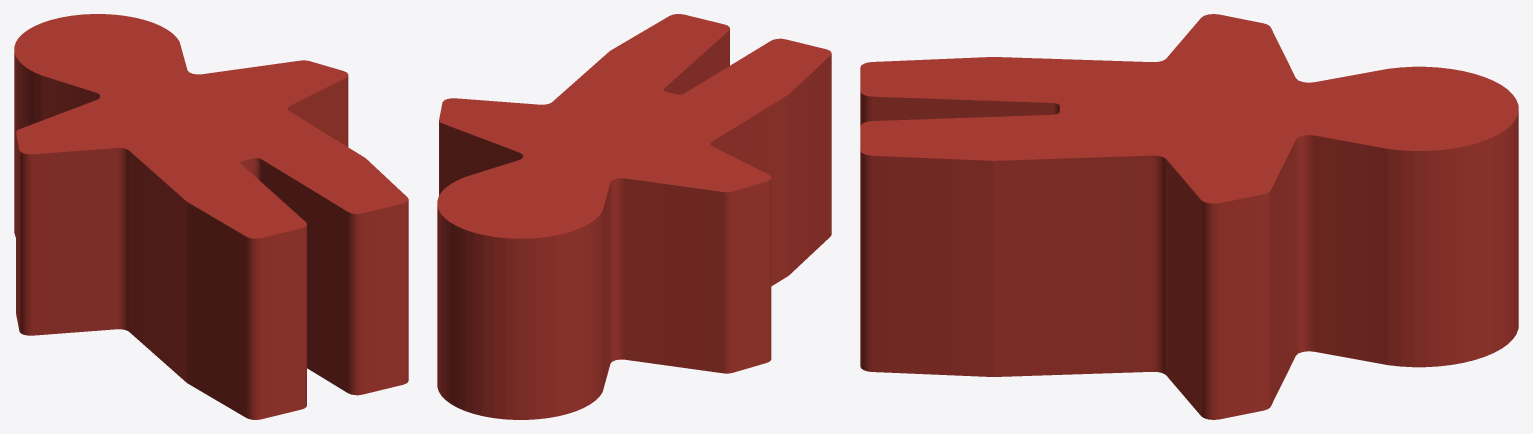
File: meeple_red.glb
3 views of the same model, side by side, from view 1: azimuth 30°, elevation 25°; view 2: azimuth 150°, elevation 25°; view 3: azimuth 270°, elevation 25° (orthographic). The views are drawn at different scales.
Parts seen in each view (by area): view 1: meeple_red; view 2: meeple_red; view 3: meeple_red.
Boxes of the visible parts, box(x1,y1,x2,y2) form: meeple_red: box(14, 14, 408, 419); meeple_red: box(437, 14, 831, 419); meeple_red: box(860, 14, 1518, 419).
Bounding box in the file's own units: 0.0151 × 0.008 × 0.0221.
